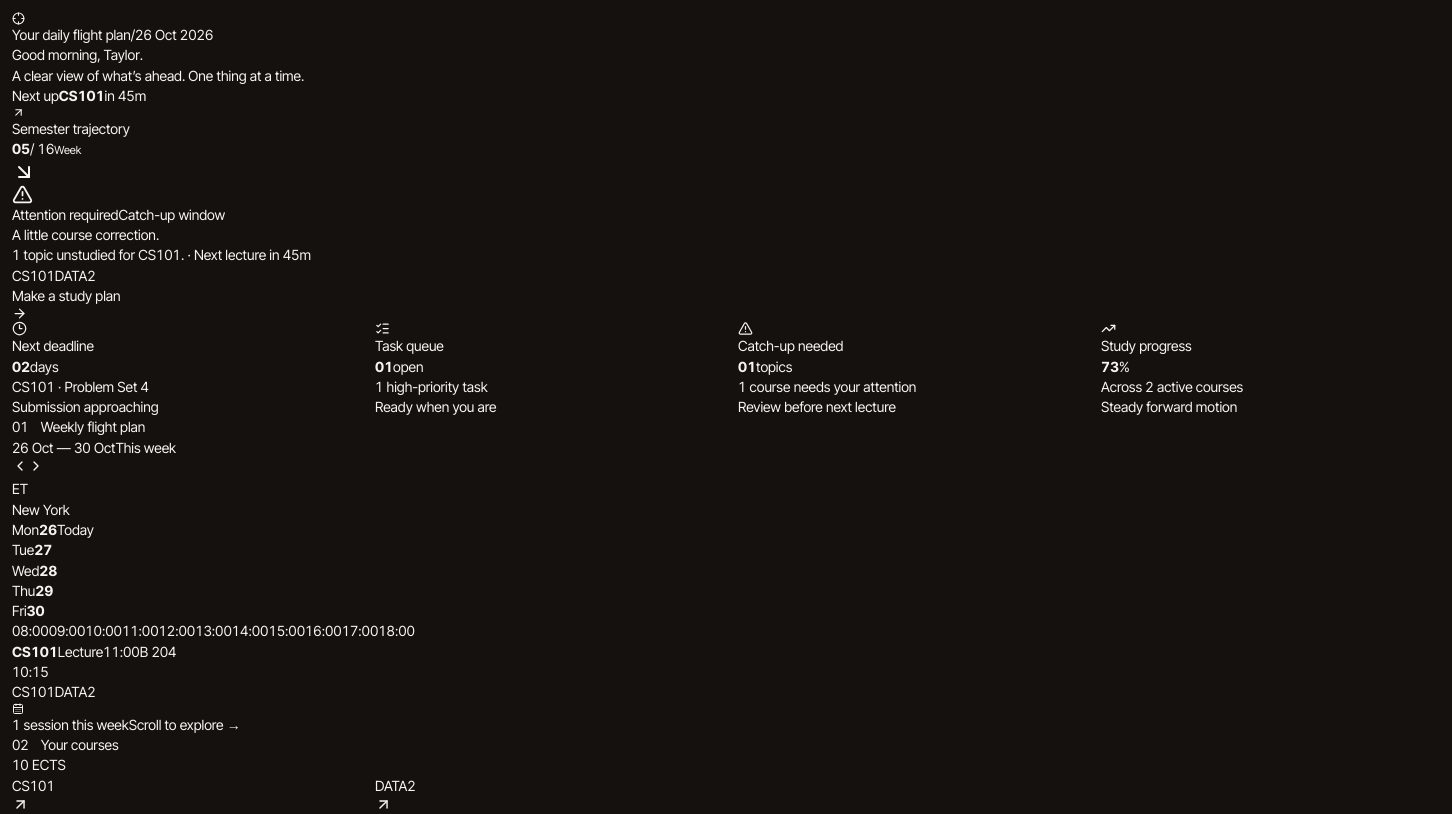
Scenario: Mission Control theme integration › respects semester-bounded sessions and Eastern calendar weeks across daylight saving time
Expected: the heading "Good morning, Taylor." is shown, [12, 46, 143, 63]
Expected: the number of links with class "mc-slot" is 1, [12, 643, 176, 660]
Click the button named "Next week".
click(36, 466)  # box [28, 458, 44, 474]
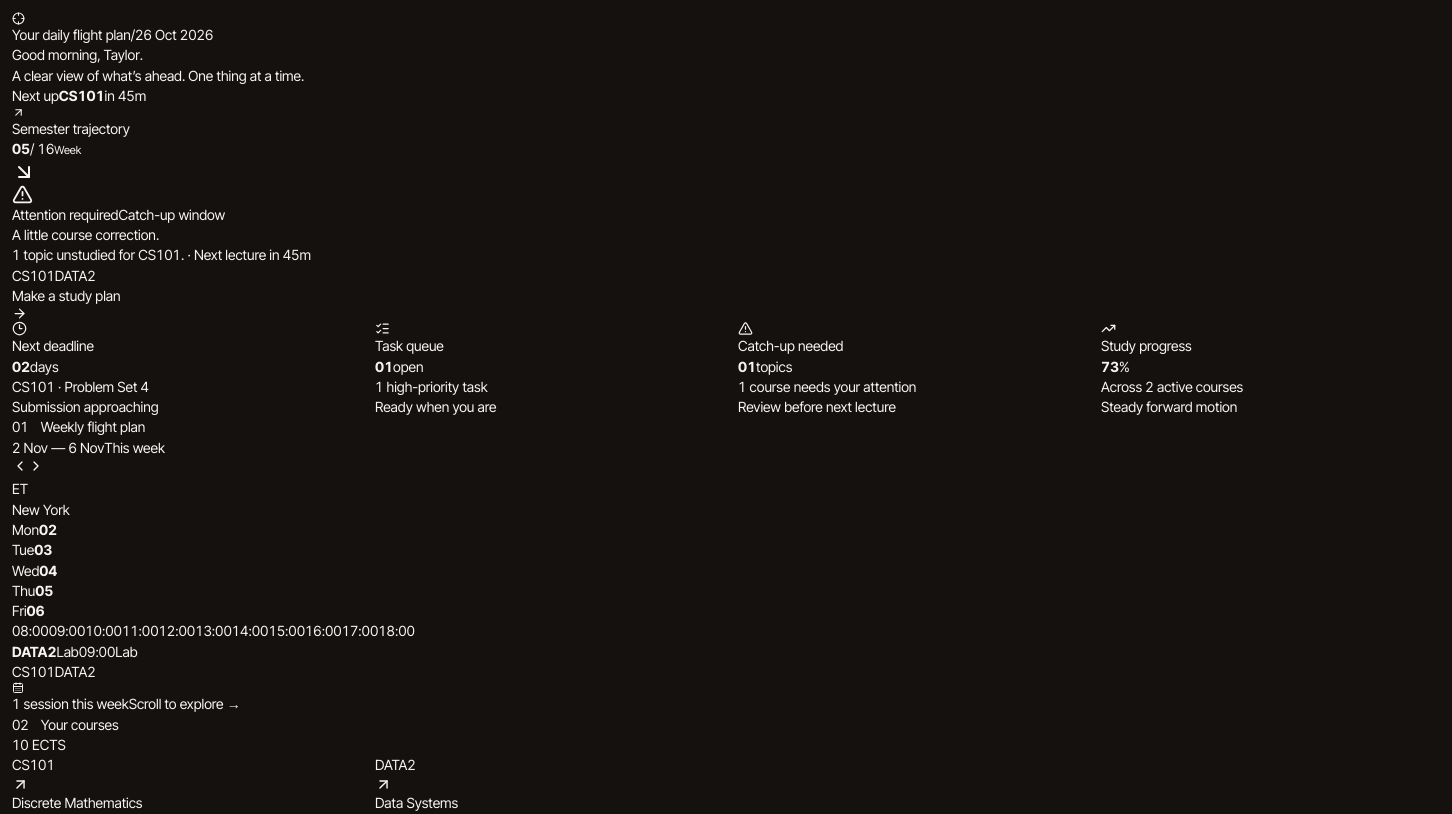
Expected: the link with class "mc-slot" shows "DATA2", [12, 643, 138, 660]
Expected: the text with class "mc-week-range" shows "2 Nov", [12, 439, 48, 456]
Expected: the element with class "mc-now-line" is gone
Click the button "This week".
click(135, 448)  # box [104, 438, 165, 458]
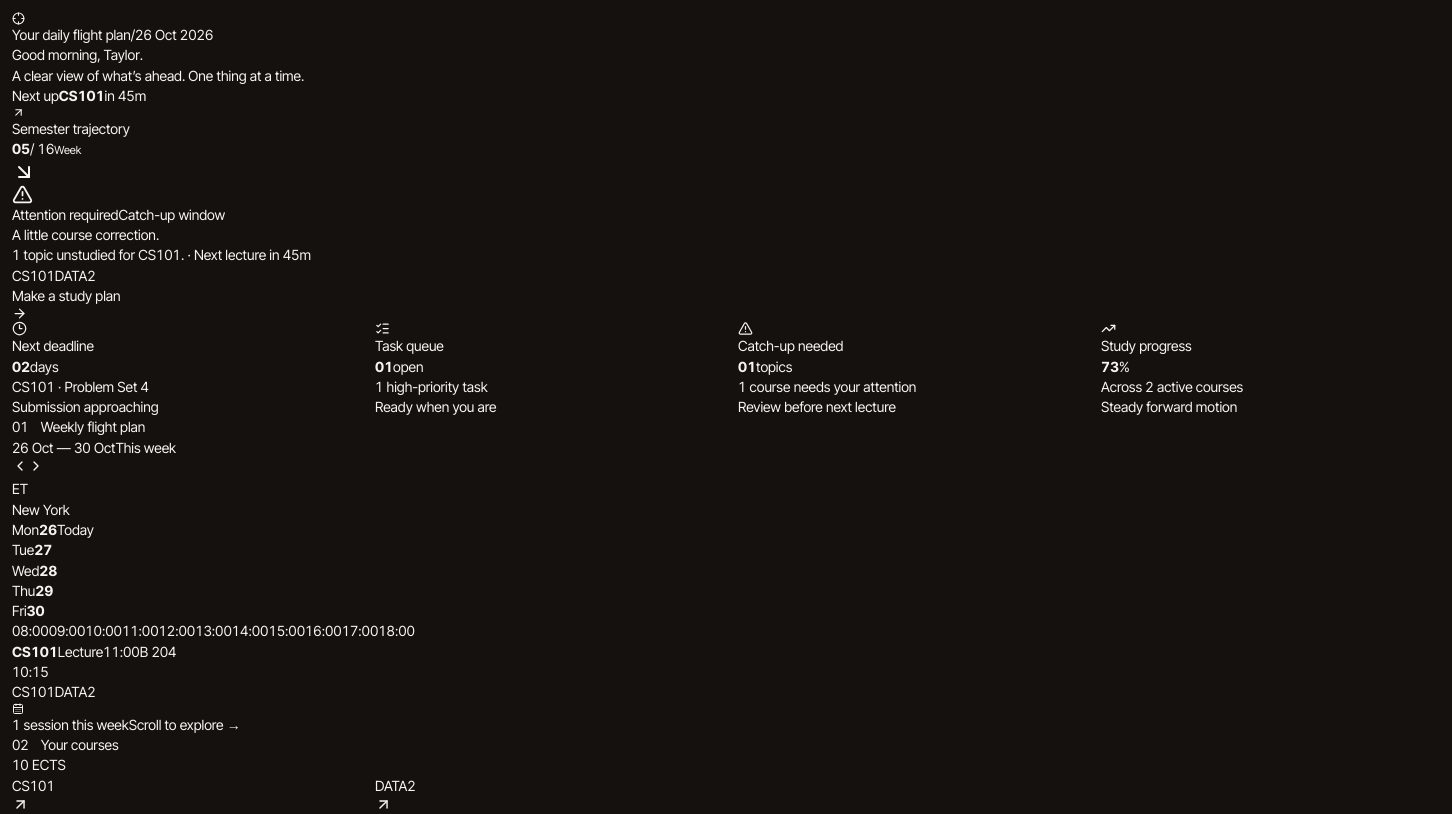
Expected: the link with class "mc-slot" shows "CS101", [12, 643, 176, 660]
